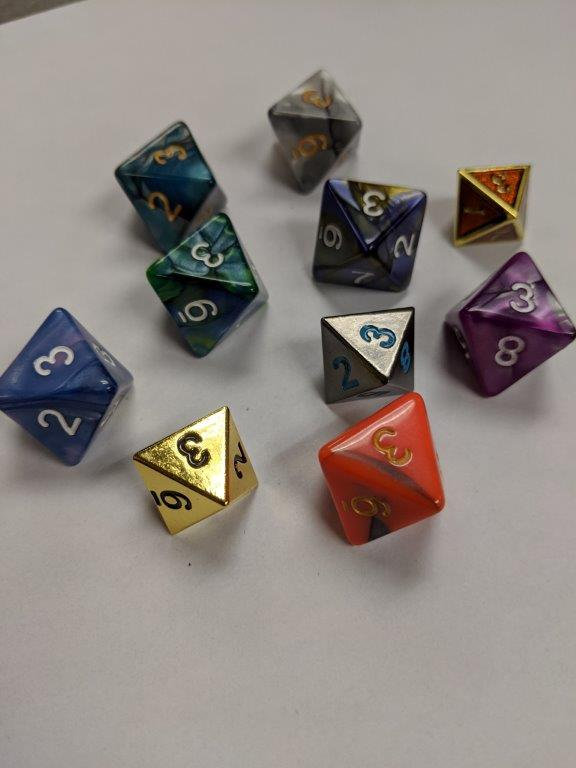d8-3: (1, 304, 132, 471), (317, 391, 447, 548), (440, 248, 576, 395), (144, 212, 270, 359), (131, 405, 261, 534), (106, 122, 230, 252), (305, 177, 432, 289), (270, 67, 363, 197), (322, 308, 417, 396), (455, 163, 529, 245)
